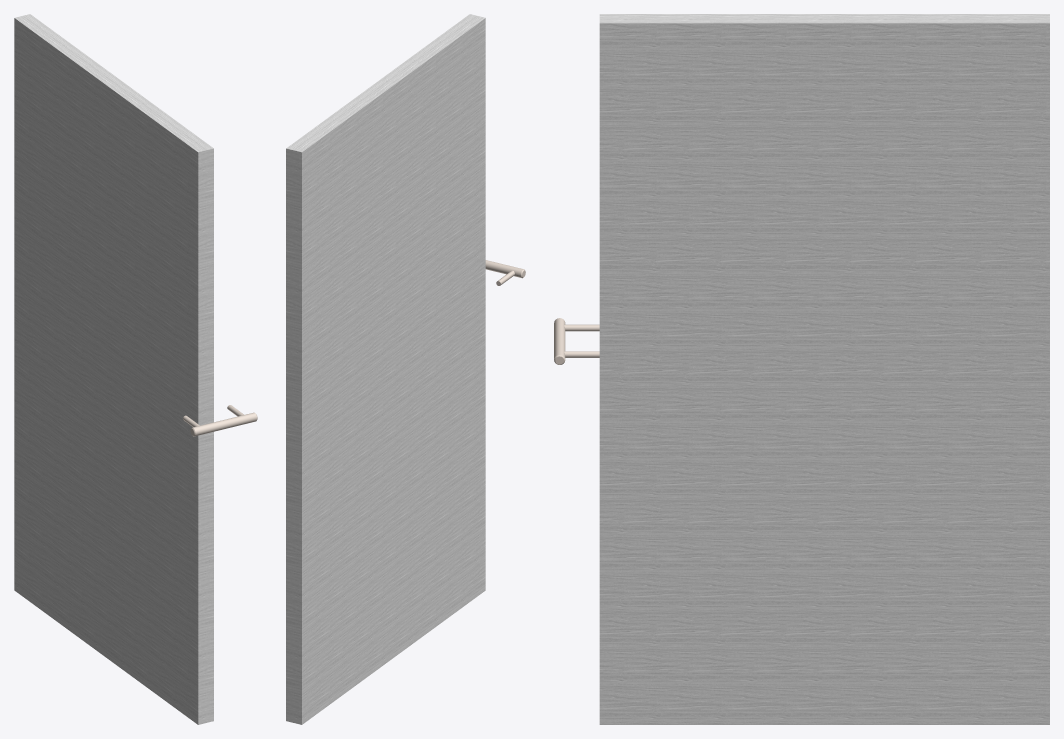
The model's file is Cabinet_831bbbb0.obj.
3 renders of one model, left to right at view 1: azimuth 30°, elevation 25°; view 2: azimuth 150°, elevation 25°; view 3: azimuth 270°, elevation 25°, orthographic. The views are drawn at different scales.
Visible parts, largest first — view 1: FP428:Door2_01_0abfbbc0, handle_1_76mm_01_6d30a2dc; view 2: FP428:Door2_01_0abfbbc0, handle_1_76mm_01_6d30a2dc; view 3: FP428:Door2_01_0abfbbc0, handle_1_76mm_01_6d30a2dc.
Boxes of the visible parts, x1,y1,x2,y2 form: FP428:Door2_01_0abfbbc0: (14,14,213,724); handle_1_76mm_01_6d30a2dc: (183,405,257,436); FP428:Door2_01_0abfbbc0: (286,14,485,724); handle_1_76mm_01_6d30a2dc: (485,260,525,285); FP428:Door2_01_0abfbbc0: (599,14,1049,724); handle_1_76mm_01_6d30a2dc: (554,318,599,364).
Bounding box in the file's own units: 0.076 × 0.6566 × 0.4206.
